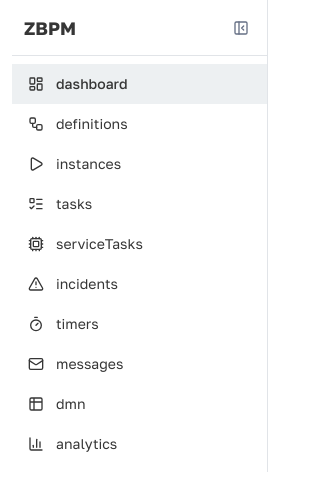
Test: SidebarNav › WO-ACL-10 criterion 23: truncated label shows full text on hover
Step 1. Hover over the button "dashboard" → (140, 84), box [12,64,267,104]
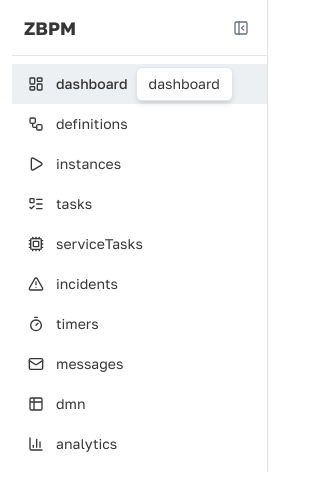
Expected: the text with class "sidebar-flyout" is shown, [136,67,233,101]
Expected: the text with class "sidebar-flyout" reads "dashboard", [148,75,220,92]
